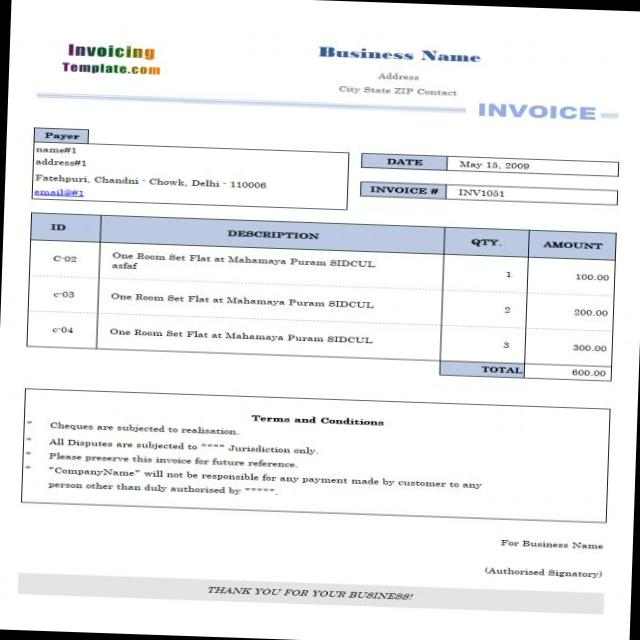customer_address: (34, 158, 88, 172)
customer_name: (34, 142, 92, 156)
invoice_date: (457, 159, 531, 172)
invoice_number: (455, 186, 510, 200)
invoice_total: (566, 368, 610, 380)
item_description: (101, 244, 388, 350)
item_quantity: (487, 262, 522, 356)
item_total_price: (552, 261, 613, 359)
supplier_address: (374, 68, 426, 86)
supplier_name: (316, 41, 486, 68)
